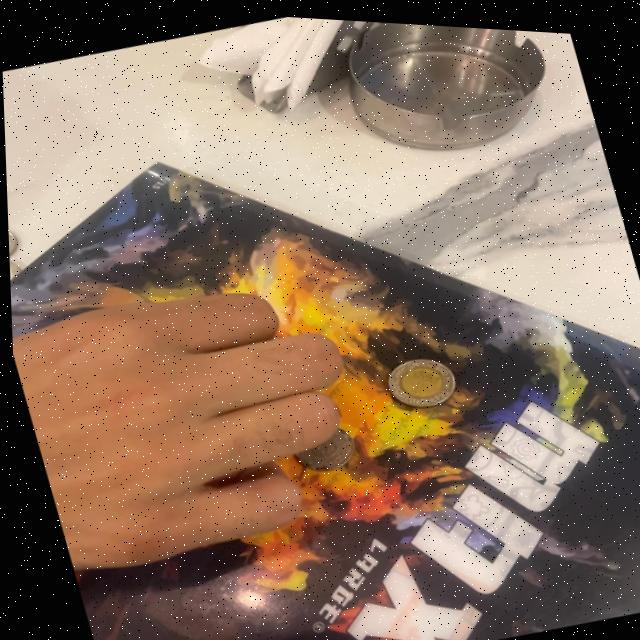One Pound: (367, 332, 474, 418), (6, 212, 21, 265), (7, 252, 24, 293)
quarter pound: (283, 417, 366, 480)
